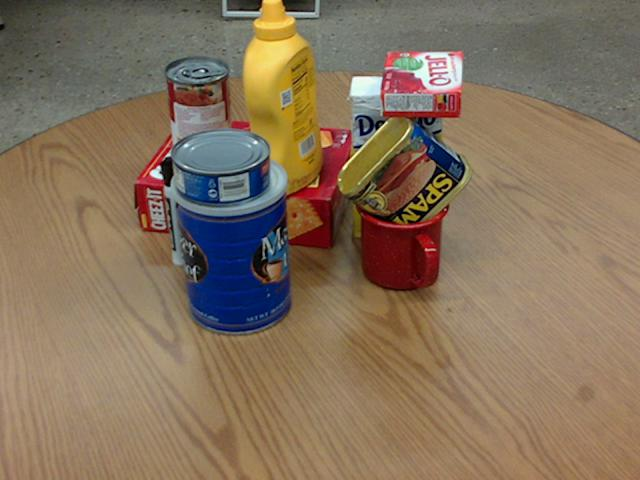cracker_box: (133, 116, 355, 248)
gelatin_box: (380, 51, 461, 116)
large_marker: (160, 157, 190, 266)
master_chef_can: (168, 148, 292, 333)
mug: (356, 180, 452, 291)
mustard_bottle: (243, 0, 322, 195)
potted_meat_can: (336, 111, 471, 242)
sugar_box: (350, 75, 443, 242)
tomato_soup_can: (163, 56, 232, 167)
tuna_fish_can: (170, 126, 270, 204)
